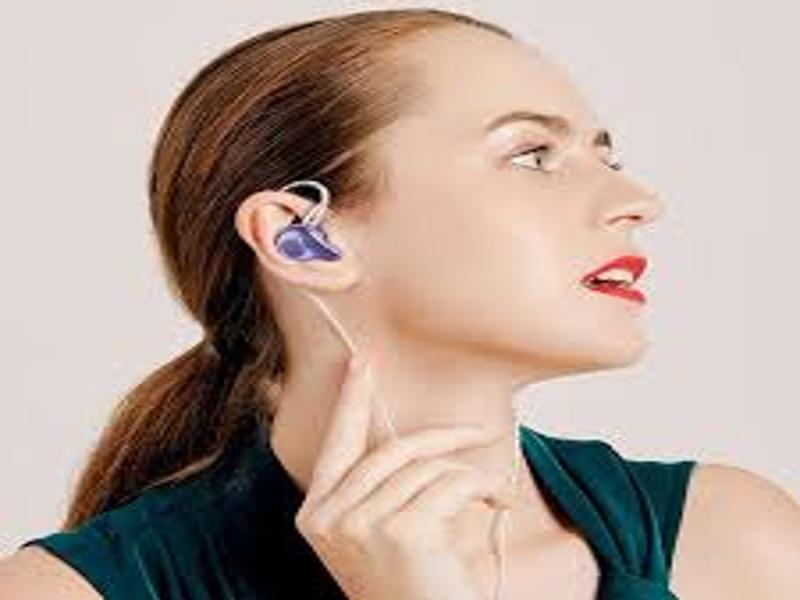headphone: (274, 226, 343, 266)
